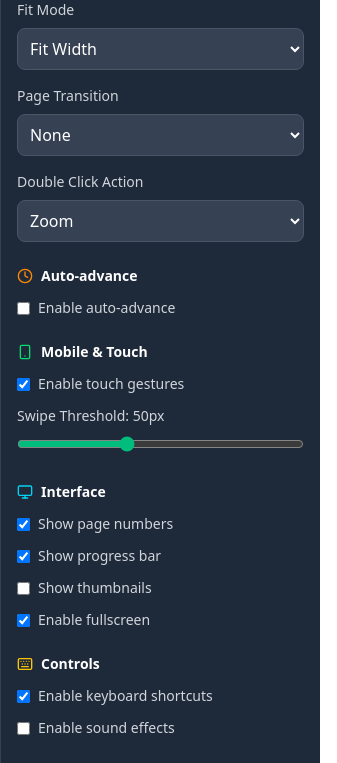
Test case: ReaderSettingsPanel › hides swipe threshold when gestures are disabled
(page scrolled)
# Disable gestures
What coordinates should you click on to do the following:
click the checkbox labelled "Enable touch gestures"
I would click on:
 (24, 384)
Its box is left=17, top=378, right=30, bottom=390.
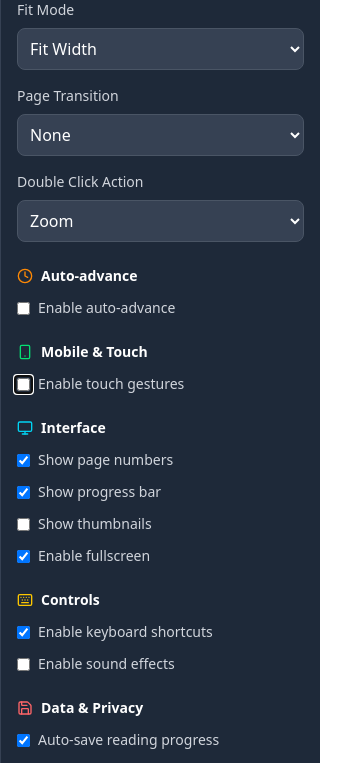
expect the text "Swipe Threshold:" is gone: met
